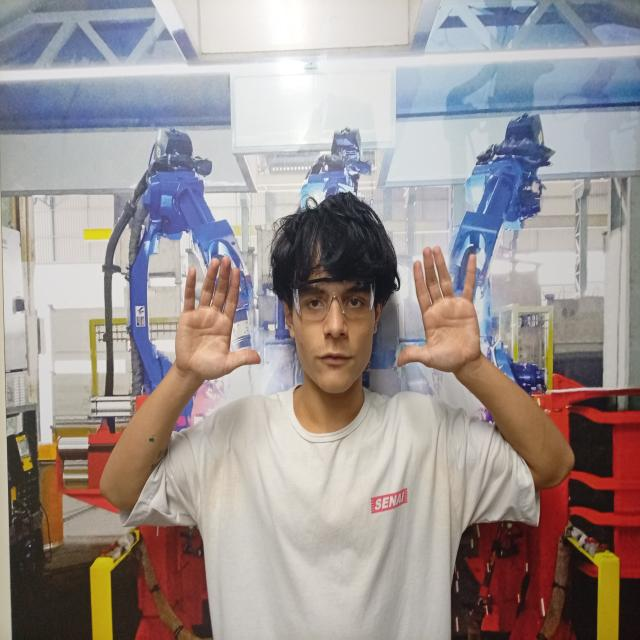oculos-epi: (289, 277, 376, 319)
